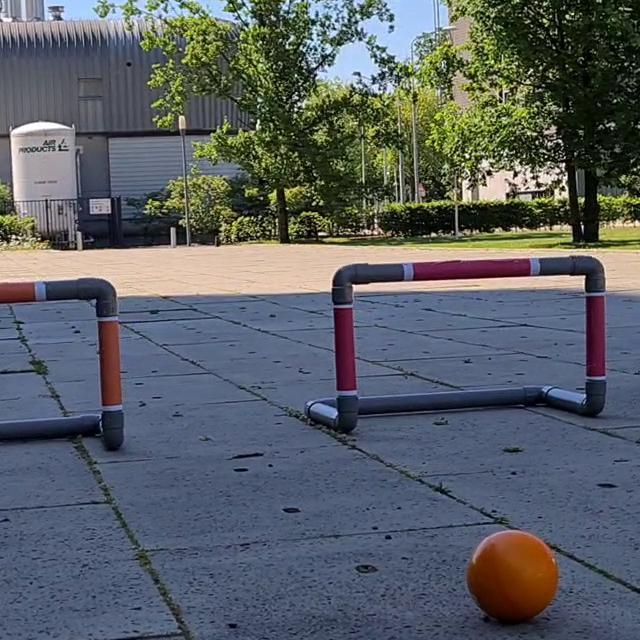ball: (464, 528, 562, 625)
